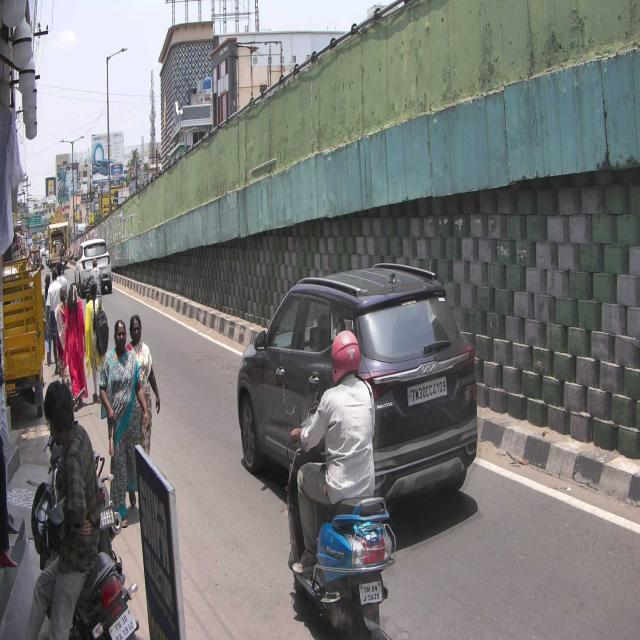single_rider: (286, 327, 395, 640)
